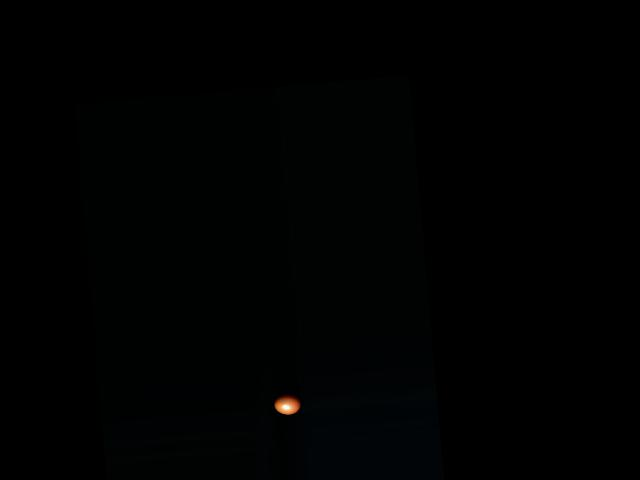egg: (273, 392, 302, 415)
